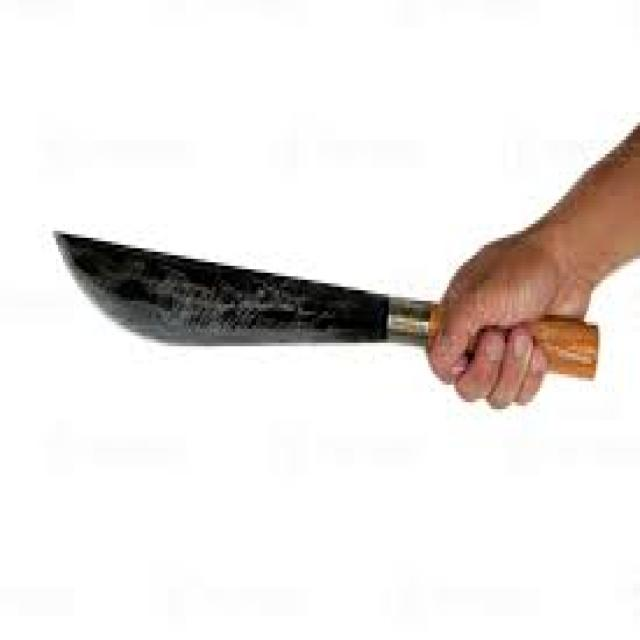Knife: (51, 228, 598, 382)
